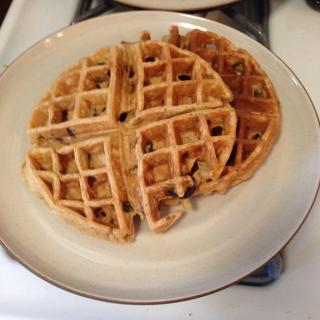Waffle: (20, 40, 238, 244), (160, 23, 282, 210)
